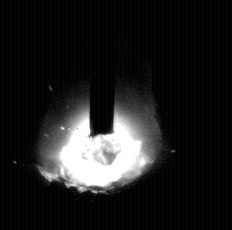arame: (90, 0, 116, 135)
poca: (37, 0, 163, 230)
